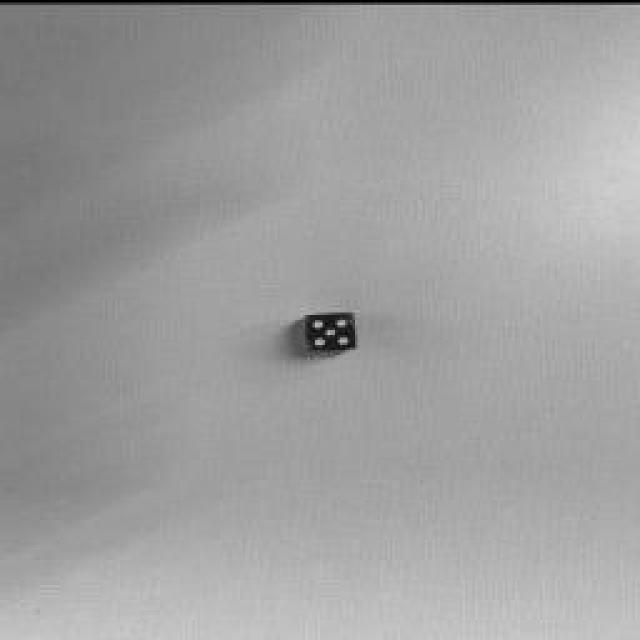dice_5: (305, 308, 357, 348)
